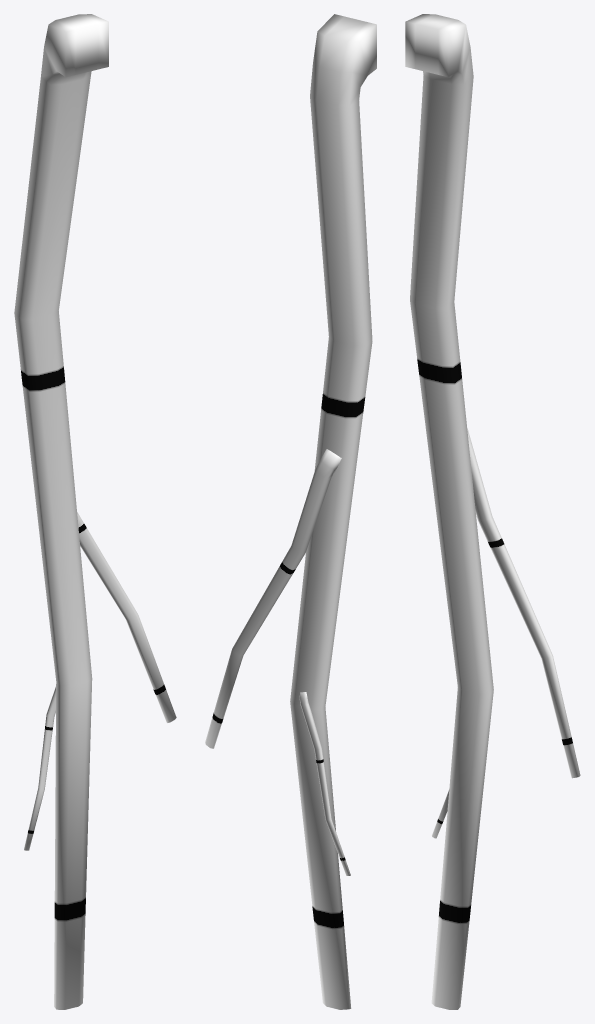
The model's file is Ranke_v1.fbx.
3 renders of one model, left to right at view 1: azimuth 30°, elevation 25°; view 2: azimuth 150°, elevation 25°; view 3: azimuth 330°, elevation 25°, orthographic.
Parts seen in each view (by area): view 1: Ranke_v1; view 2: Ranke_v1; view 3: Ranke_v1.
Part boxes in pixels (<box>): Ranke_v1: <box>14,14,176,1009</box>; Ranke_v1: <box>205,14,376,1009</box>; Ranke_v1: <box>405,14,580,1009</box>.
Size of the model in its own units: 238 by 1394 by 107.
